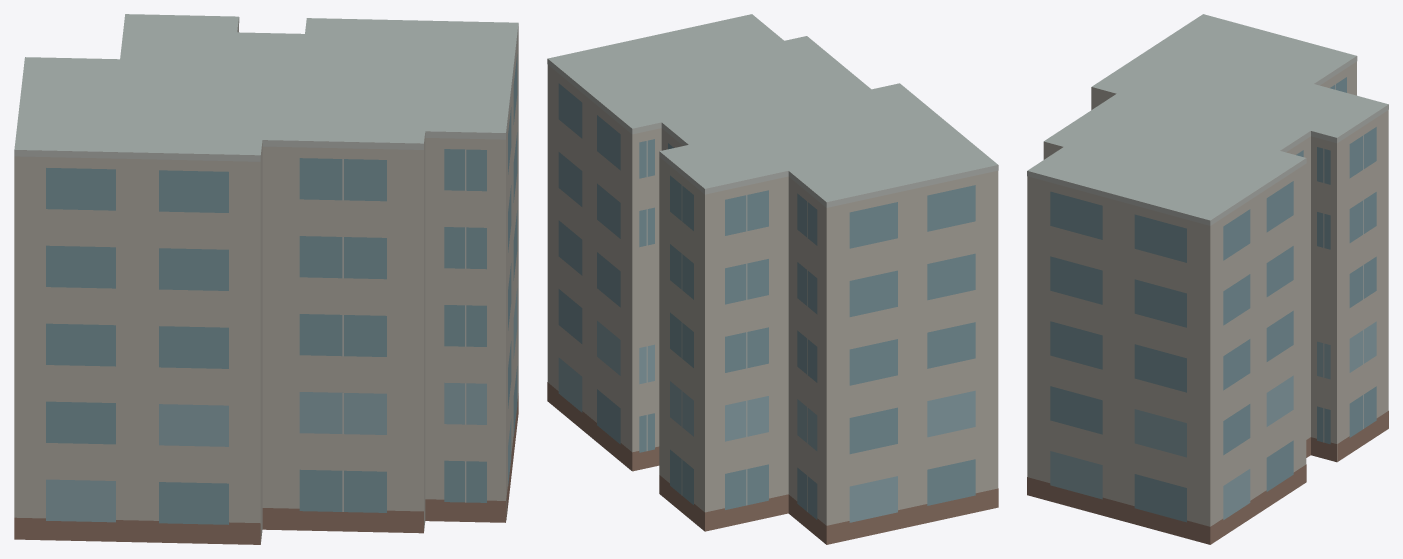
Rendered from survey-upis-32791838.glb.
3 views of the same model, side by side, from view 1: azimuth 30°, elevation 25°; view 2: azimuth 150°, elevation 25°; view 3: azimuth 270°, elevation 25° (orthographic). The views are drawn at different scales.
Parts seen in each view (by area): view 1: survey-upis-32791838.tmp; view 2: survey-upis-32791838.tmp; view 3: survey-upis-32791838.tmp.
Part boxes in pixels (bbox=[...]): survey-upis-32791838.tmp: bbox=[14, 14, 518, 544]; survey-upis-32791838.tmp: bbox=[547, 14, 998, 544]; survey-upis-32791838.tmp: bbox=[1027, 14, 1388, 544].
Bounding box in the file's own units: 19.95 × 14.6 × 14.76.
